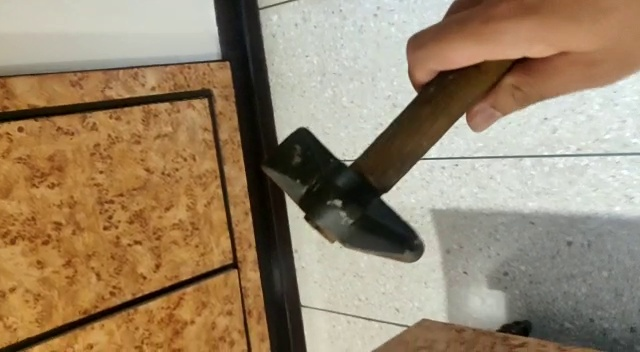hammer: (253, 58, 522, 264)
